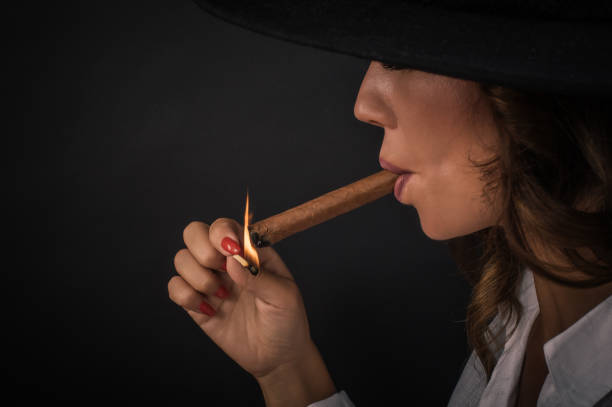cigarette: (251, 173, 401, 248)
